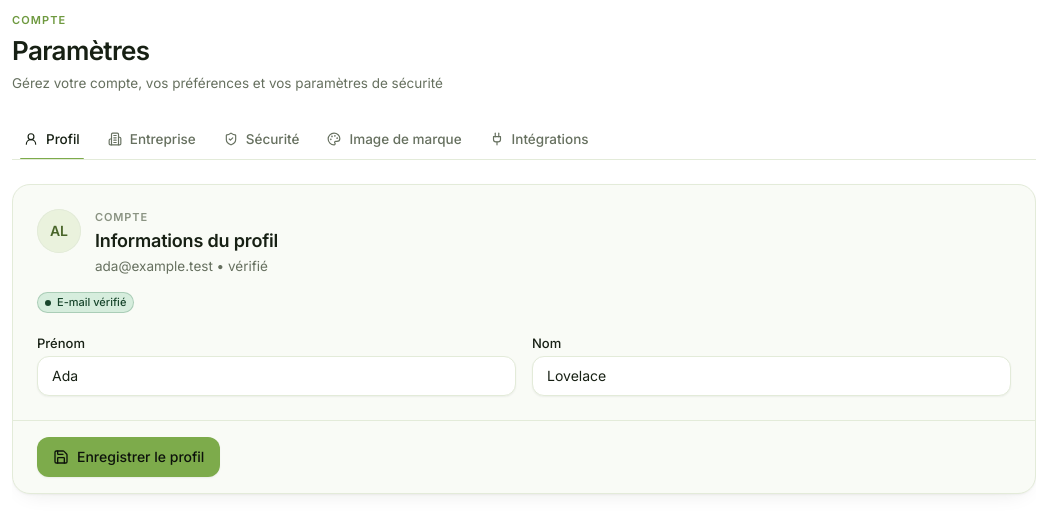
settings page › changes a password only when the account has a password
Check: the heading "Informations du profil" is shown, box [95,230,278,252]
Click the tab "Sécurité": coordinates (262, 139) [212,119,312,159]
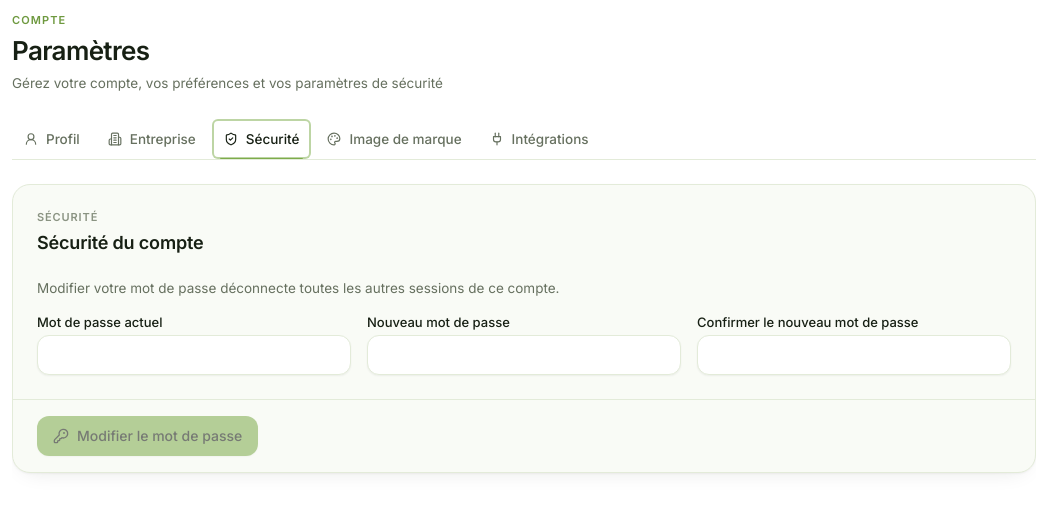
In the password field labelled "Mot de passe actuel": coordinates (194, 355) [37,335,351,375], type "current123"
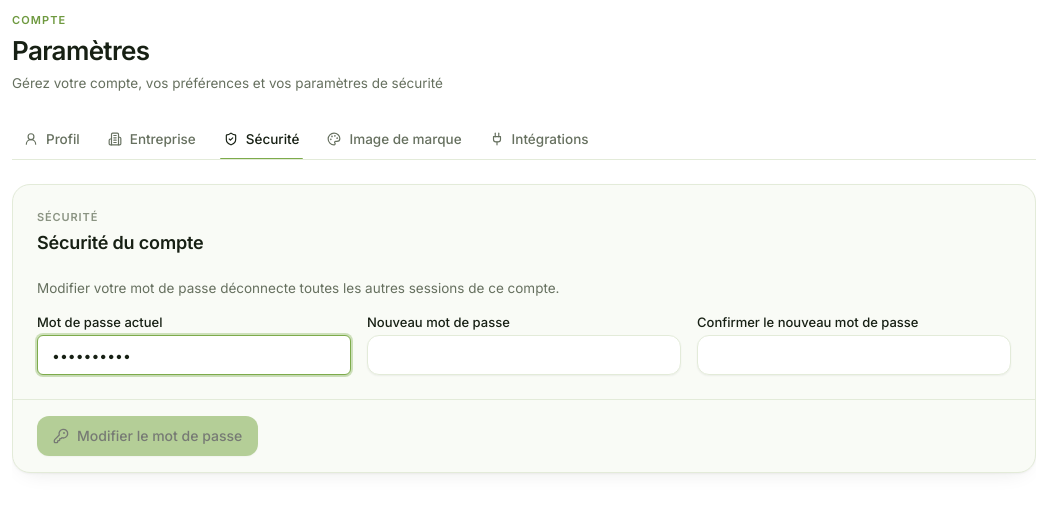
In the password field labelled "Nouveau mot de passe": coordinates (524, 355) [367,335,681,375], type "newpassword123"
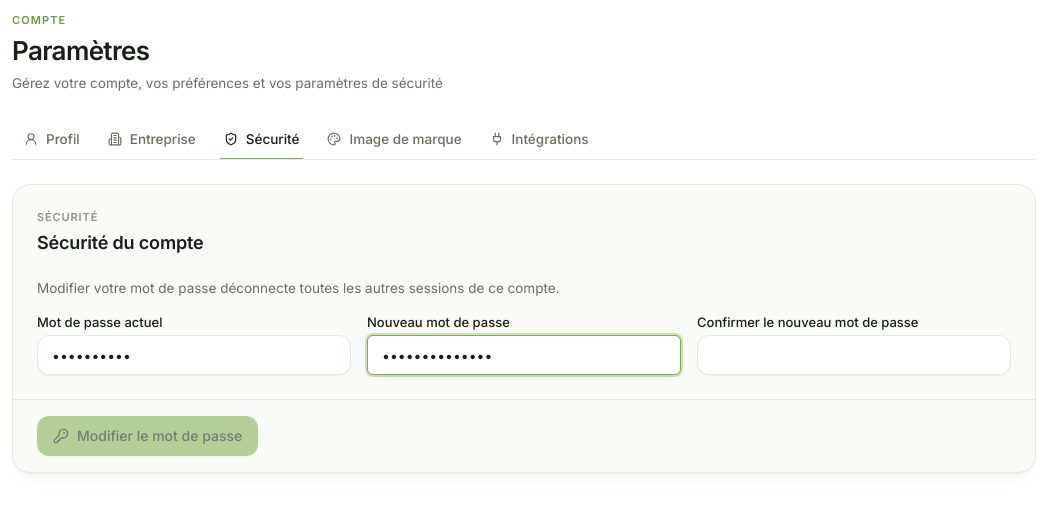
In the password field labelled "Confirmer le nouveau mot de passe": coordinates (854, 355) [697,335,1011,375], type "newpassword123"
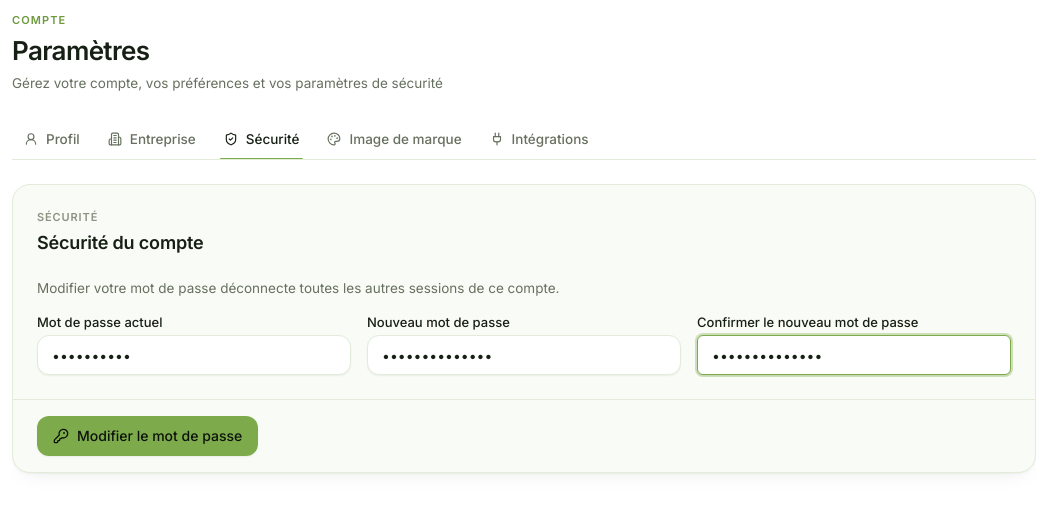
Click the button "Modifier le mot de passe": coordinates (148, 436) [37,416,258,456]
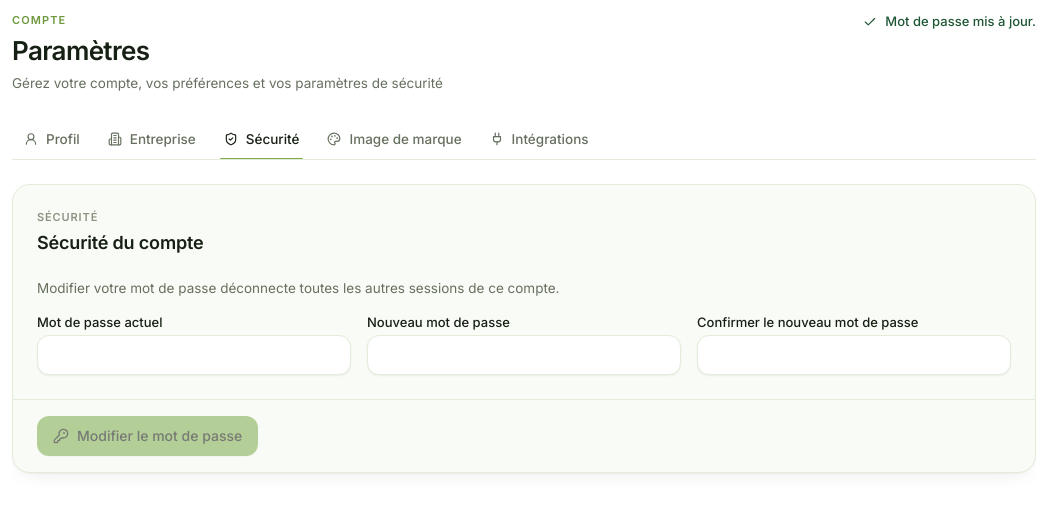
Check: the text "Mot de passe mis à jour." is shown, box [863,12,1036,32]
